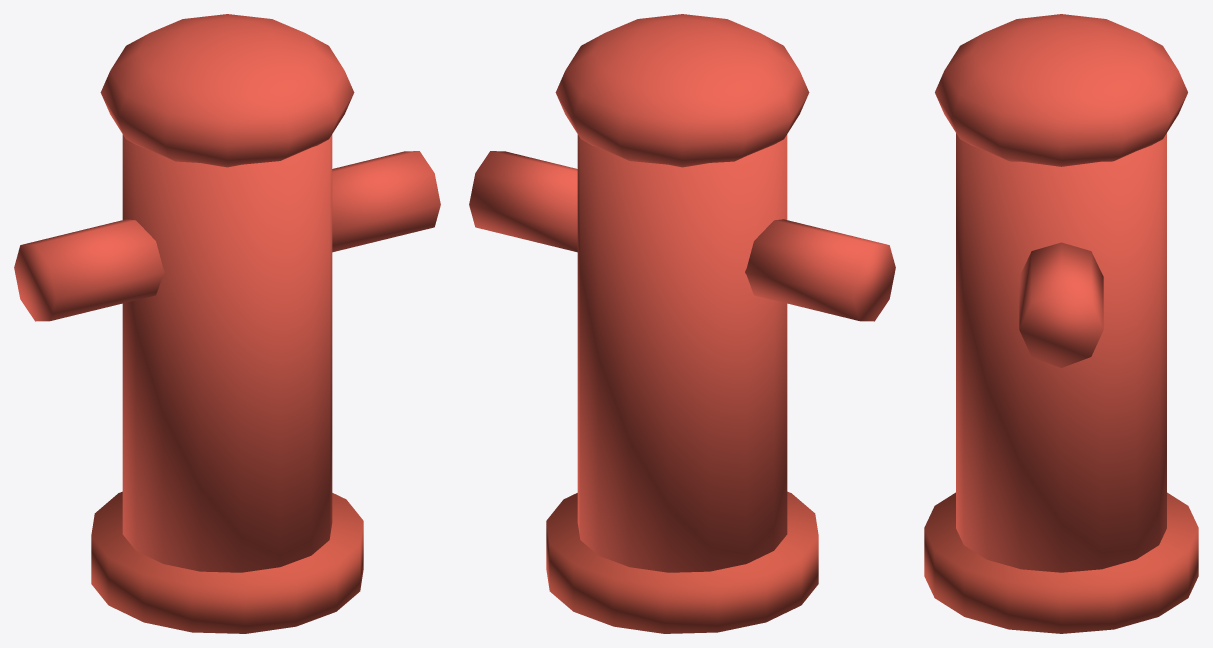
Rendered from mesh_fire_hydrant.fbx.
3 renders of one model, left to right at view 1: azimuth 30°, elevation 25°; view 2: azimuth 150°, elevation 25°; view 3: azimuth 270°, elevation 25°, orthographic.
Parts seen in each view (by area): view 1: mesh_fire_hydrant; view 2: mesh_fire_hydrant; view 3: mesh_fire_hydrant.
Boxes of the visible parts, bbox=[...] form: mesh_fire_hydrant: bbox=[14, 14, 440, 633]; mesh_fire_hydrant: bbox=[469, 14, 895, 633]; mesh_fire_hydrant: bbox=[924, 14, 1198, 633].
Size of the model in its own units: 0.42 by 0.565 by 0.26.
